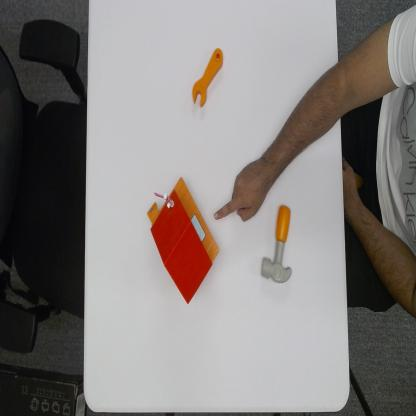Arm: (268, 62, 342, 181)
Hammer: (260, 204, 294, 285)
Hand: (212, 155, 272, 226)
House: (148, 174, 220, 307)
Screwdriver: (191, 46, 224, 111)
